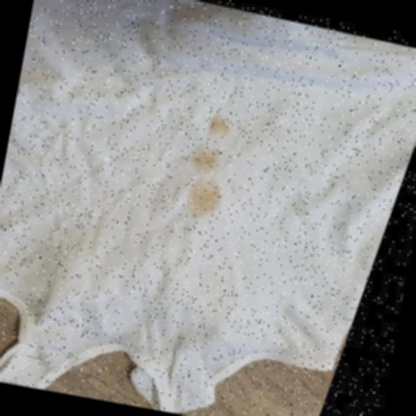coffee: (187, 180, 221, 219), (193, 147, 219, 174), (209, 116, 230, 139)
